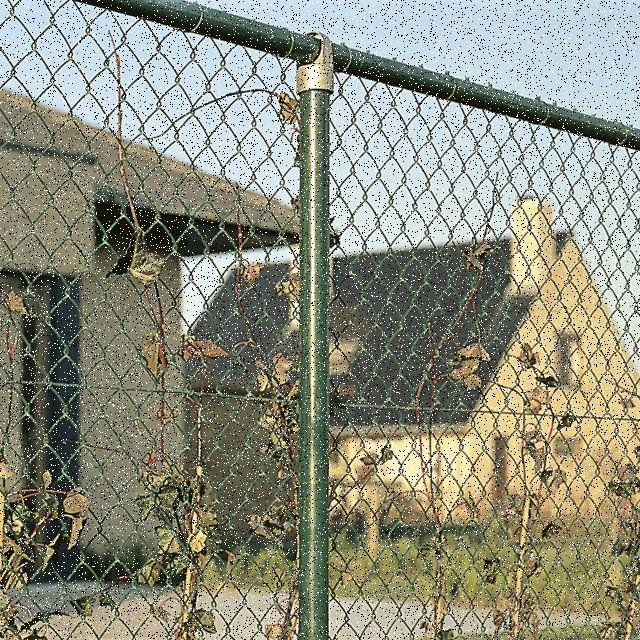fence line: (1, 68, 615, 640)
